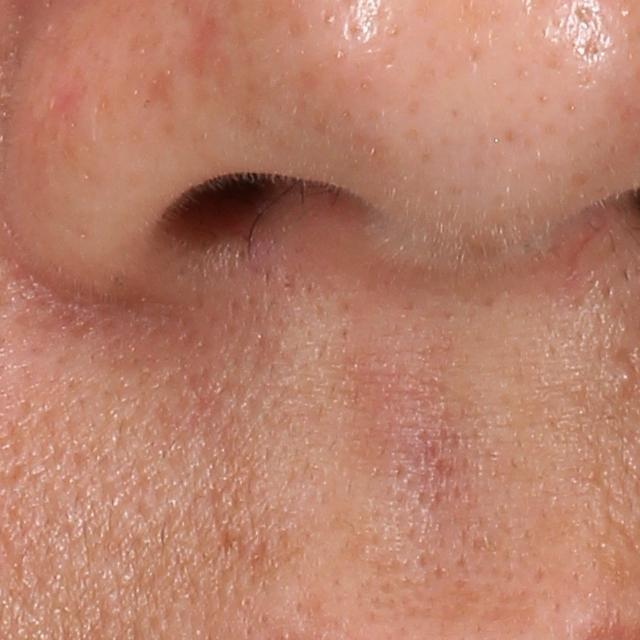comedo: (238, 594, 254, 612)
